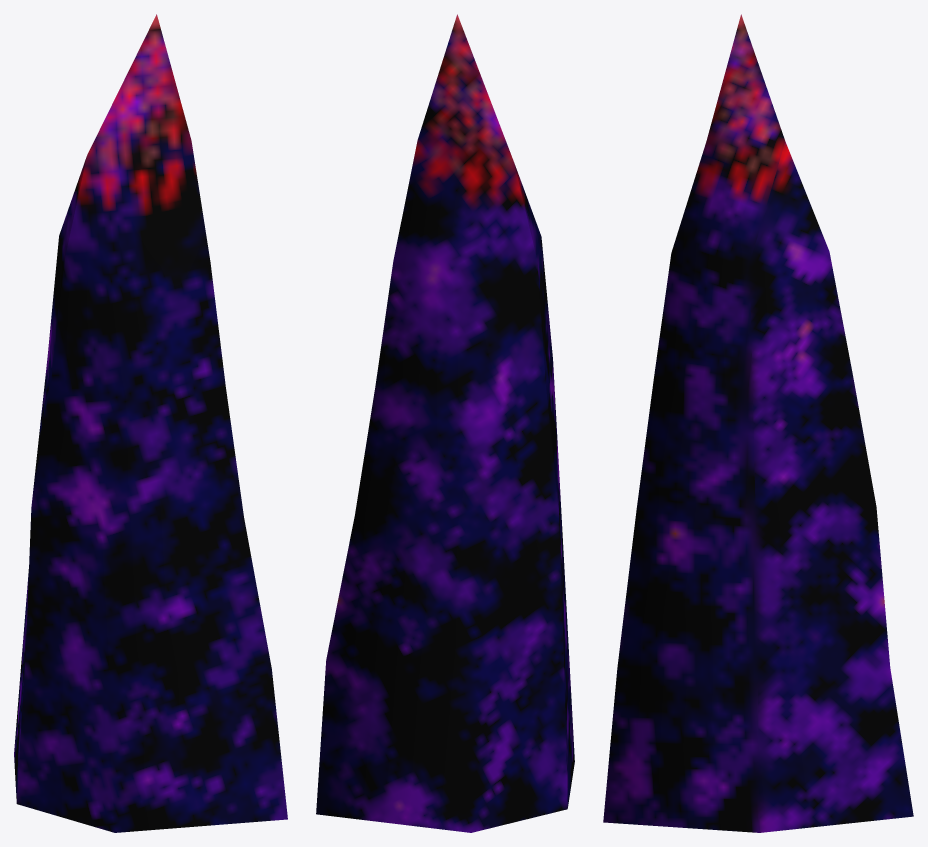
Rendered from obelisk.glb.
3 views of the same model, side by side, from view 1: azimuth 30°, elevation 25°; view 2: azimuth 150°, elevation 25°; view 3: azimuth 270°, elevation 25° (orthographic). The views are drawn at different scales.
Visible parts, largest first — view 1: Cube; view 2: Cube; view 3: Cube.
Part boxes in pixels (x1,y1,x2,y2): Cube: (14, 14, 287, 832); Cube: (316, 14, 574, 832); Cube: (603, 14, 913, 832).
Bounding box in the file's own units: 0.9992 × 3.41 × 1.24.
Materials: 1 (1 with a texture image).
